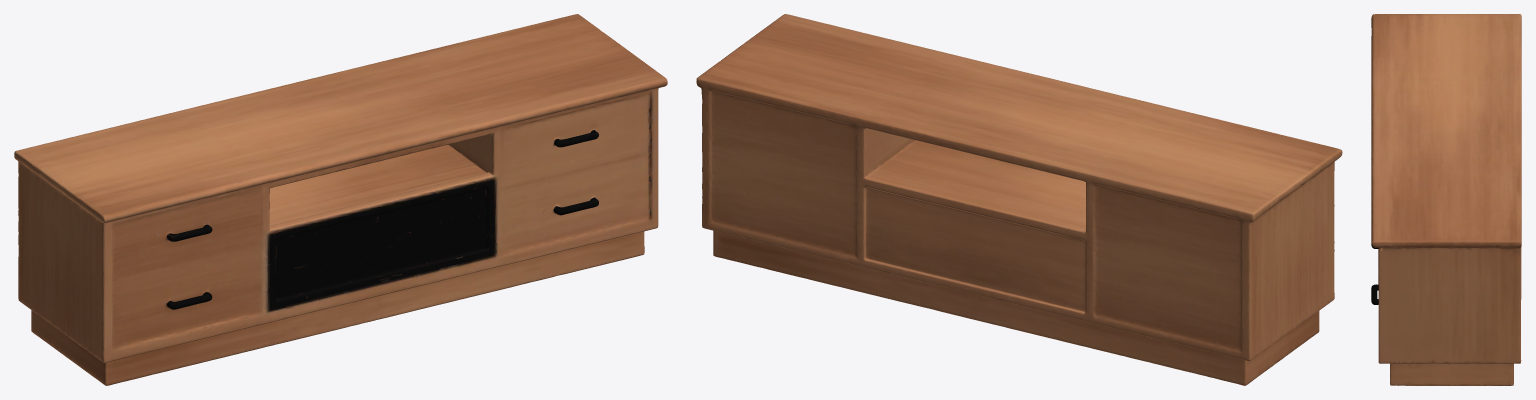
Rendered from 02_tv-stand_28.glb.
3 views of the same model, side by side, from view 1: azimuth 30°, elevation 25°; view 2: azimuth 150°, elevation 25°; view 3: azimuth 270°, elevation 25° (orthographic). The views are drawn at different scales.
Visible parts, largest first — view 1: world; view 2: world; view 3: world.
Part boxes in pixels (x1=…): world: x1=14, y1=14, x2=667, y2=385; world: x1=696, y1=14, x2=1342, y2=385; world: x1=1371, y1=14, x2=1521, y2=385.
Size of the model in its own units: 1 by 0.3086 by 0.2797.
Materials: 1 (1 with a texture image).
